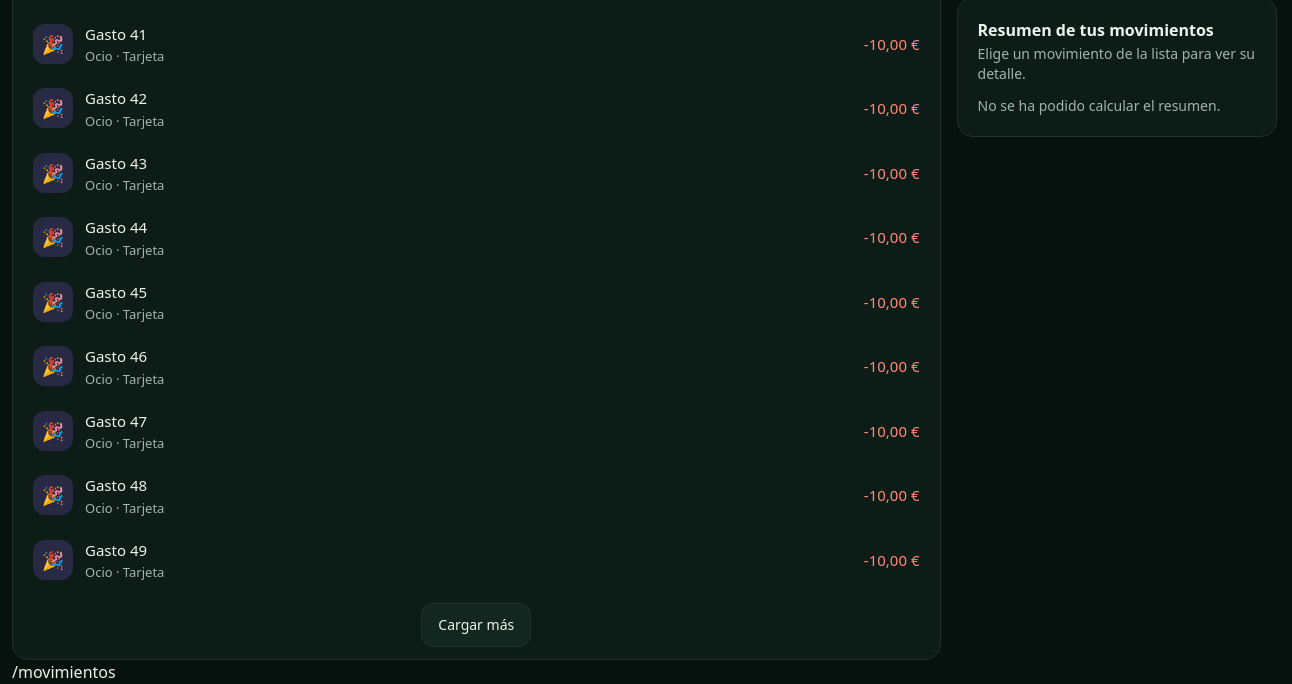
Test case: Lista de movimientos › pide importes como texto, en orden keyset y de 50 en 50 (+1 para saber si hay más)
(page scrolled)
Expected: the text "Gasto 49" is shown, [84,538,147,560]
Step 1. Click the button "Cargar más" → [476, 625], box [421,603,531,647]
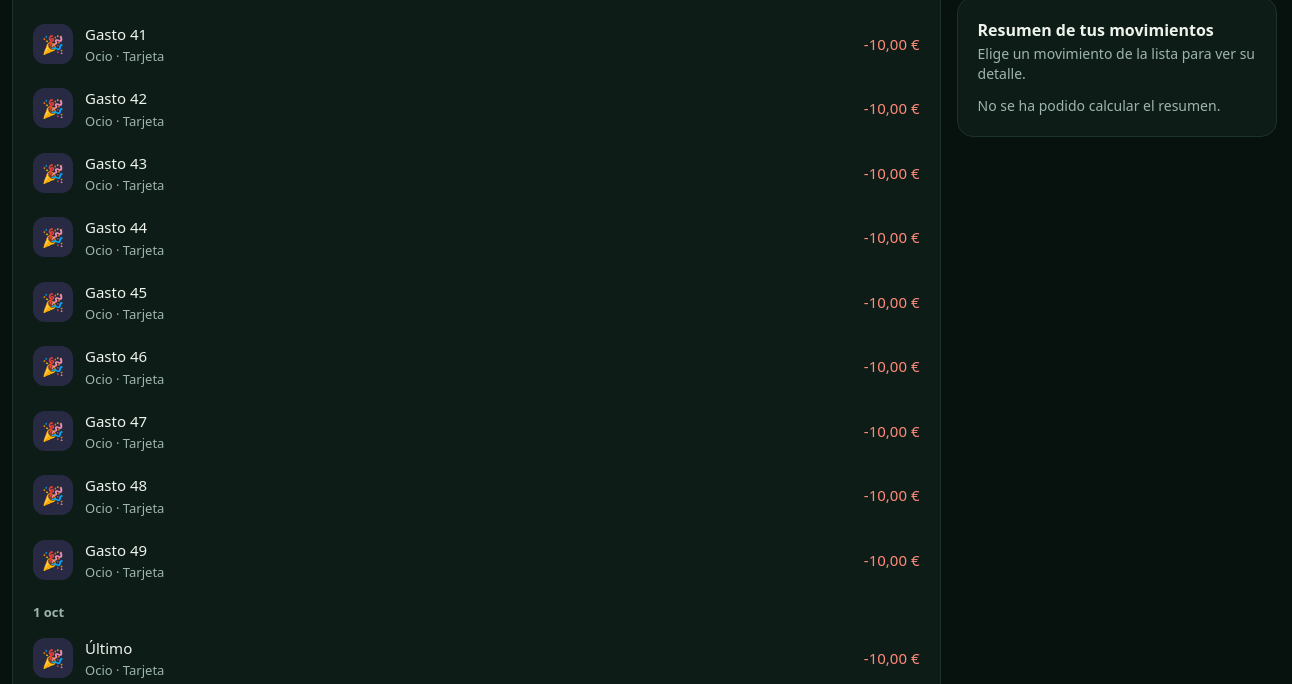
Result: the text "Último" is shown at [84,636,132,658]
Result: the button "Cargar más" is gone
